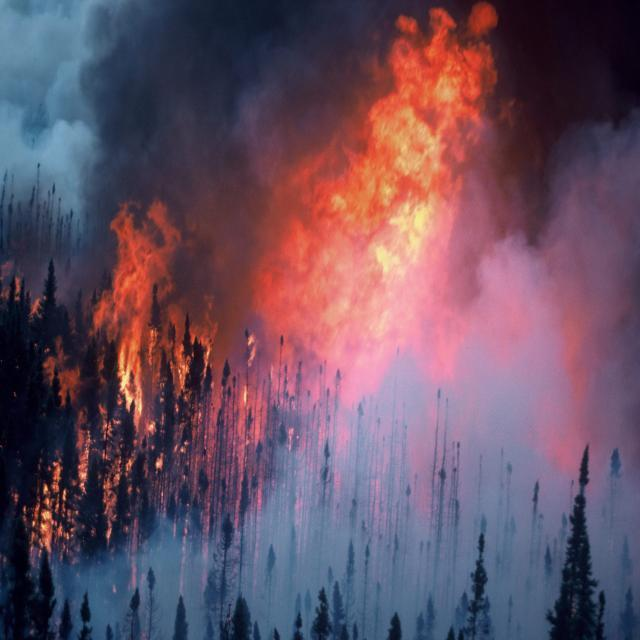Fire: (0, 256, 185, 536), (95, 241, 198, 444), (276, 185, 384, 362), (398, 3, 511, 132), (356, 106, 448, 242)
Smoke: (209, 488, 589, 640), (2, 6, 344, 162), (408, 276, 632, 496), (527, 17, 634, 265), (40, 549, 242, 640), (214, 479, 243, 536)
